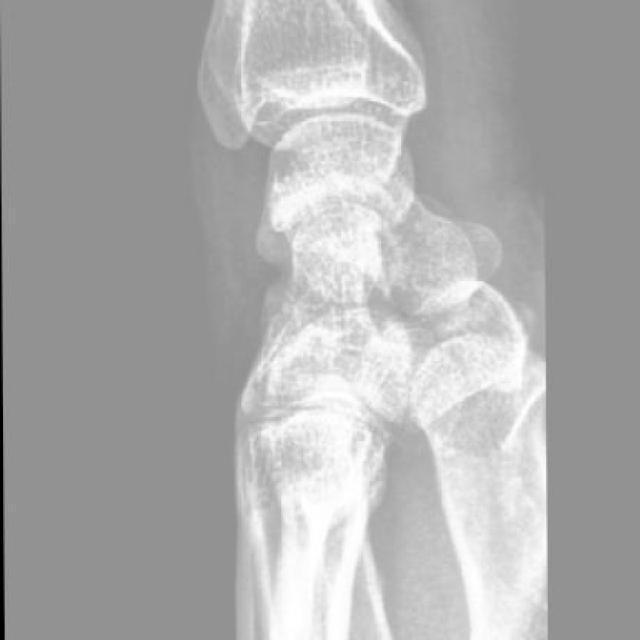Fracture: (252, 237, 394, 370)
